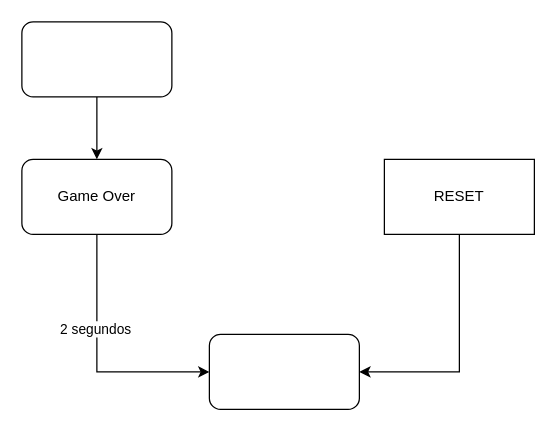
Image size: 556x431. Some labels were removed from this diagram. The centre of each missing label's shape, as x and y in pixels:
"Fallos = 3" goes at [96,59].
"Reinicio" goes at [283,371].
